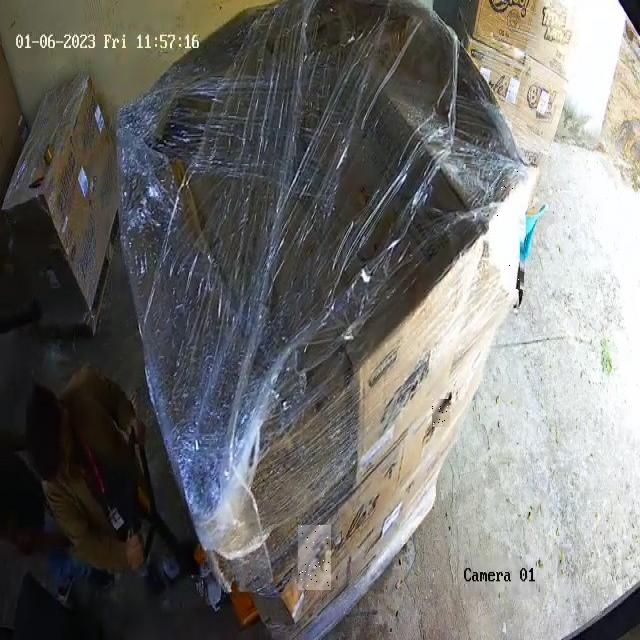leakage: (299, 525, 329, 588), (433, 399, 448, 427)
squeeze: (490, 170, 521, 289)
